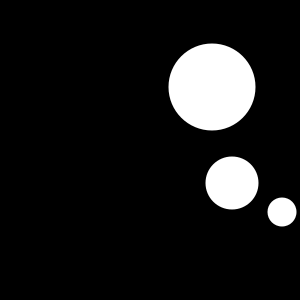rectangle: (168, 44, 256, 130), (205, 156, 258, 210), (268, 198, 296, 226)
